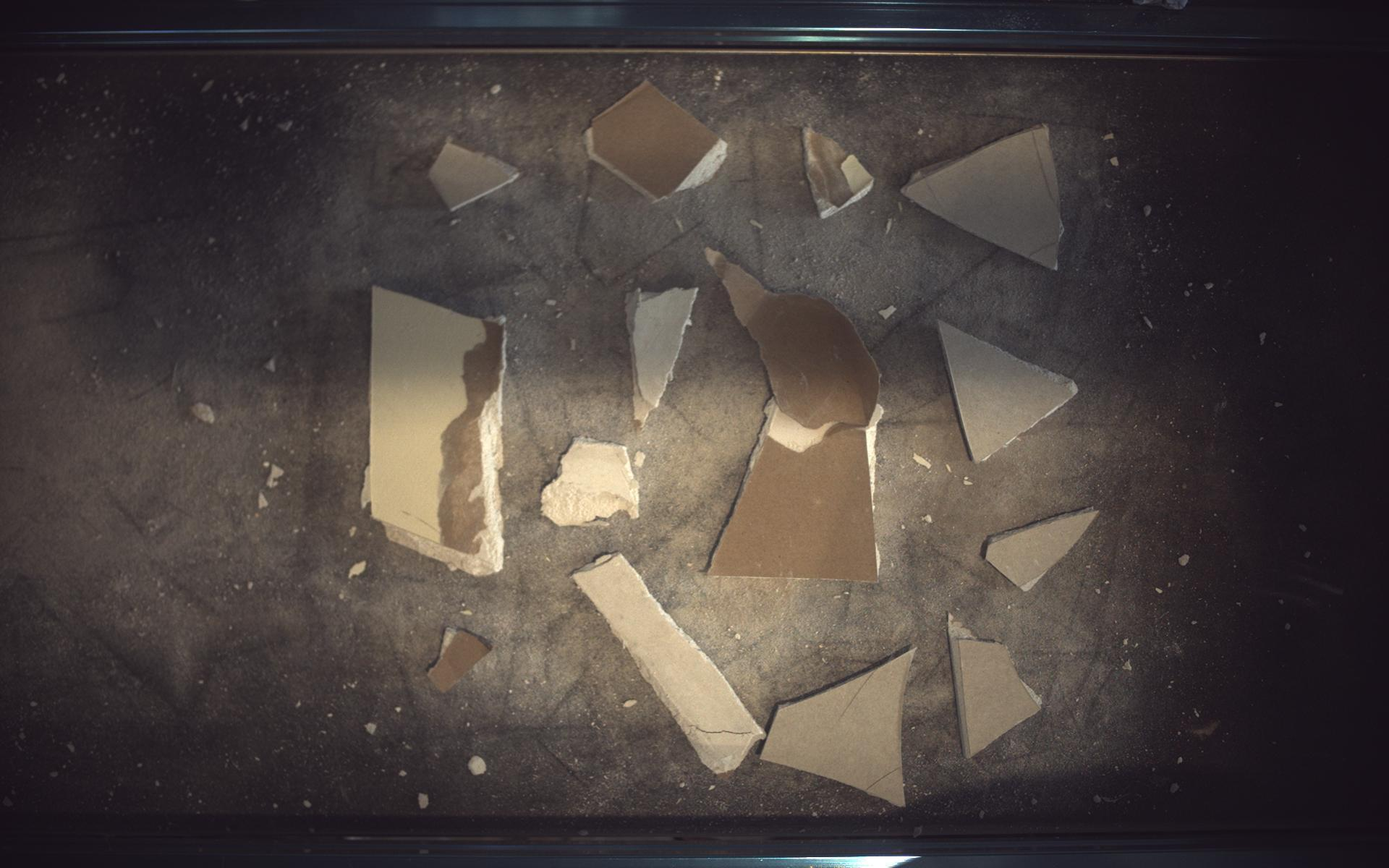gypsum_board: (706, 247, 883, 583), (573, 555, 765, 775), (362, 286, 504, 576), (762, 649, 918, 808), (904, 123, 1066, 269), (940, 320, 1080, 462), (585, 79, 729, 201), (949, 615, 1044, 760), (627, 287, 699, 429), (987, 509, 1101, 592), (541, 438, 640, 527), (428, 137, 519, 210), (804, 127, 876, 218), (428, 630, 492, 694)
